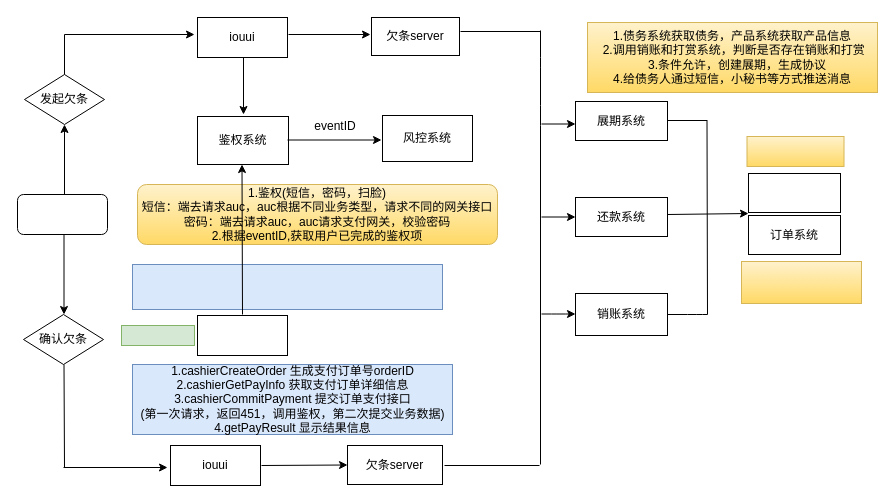
The diagram is 895 pixels wide and 503 high, and some of its shapes have lost their labels. Each missing label, with the centre of its shape:
APP: point 62,214
payui: point 242,335
产品系统: point 794,192
涉及支付的场景 超额支付的拦截 调用支付网关: point 801,282
端调用payui: point 157,335
获取产品信息 维护产品状态: point 795,151
销帐，展期系统调用payui,根据不同的鉴权类型 businessType，实例化不同的Server,完成不同的业务流程: point 287,287
